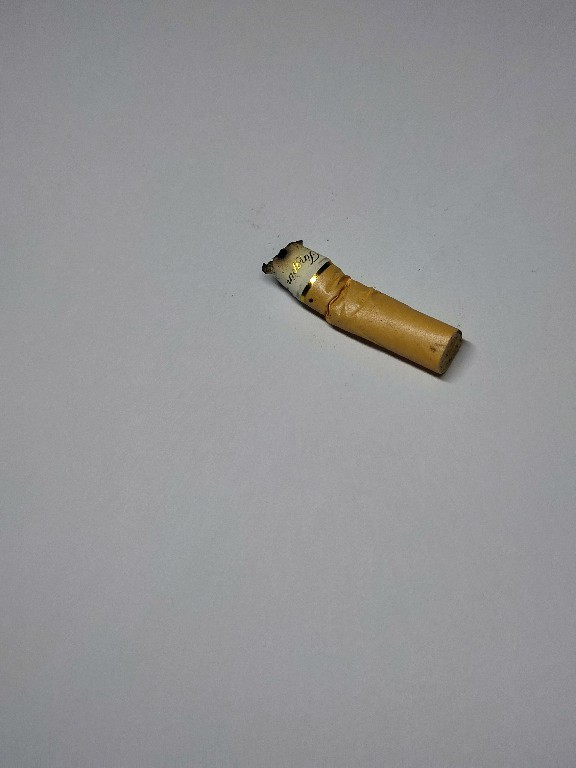cigarette: (257, 235, 468, 385)
